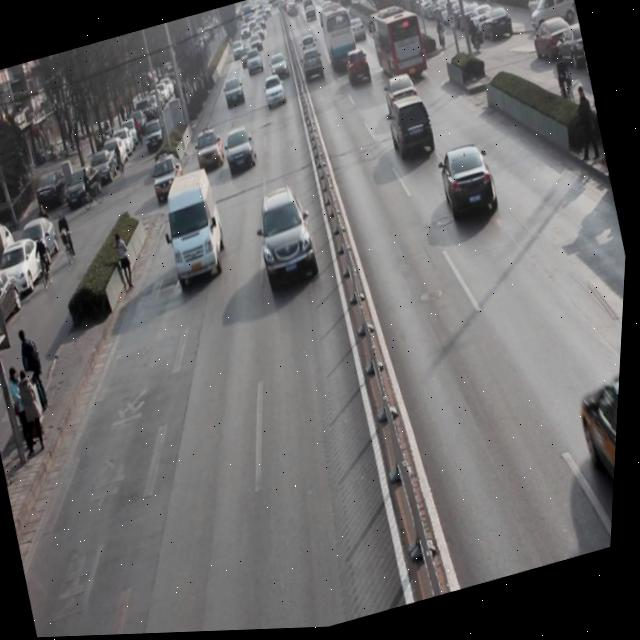car: (571, 365, 624, 553), (247, 180, 330, 296), (433, 138, 507, 229), (384, 95, 442, 166), (379, 70, 425, 125), (221, 127, 265, 181), (148, 153, 192, 204), (340, 46, 377, 91), (191, 127, 228, 171), (297, 48, 329, 86), (261, 75, 291, 112), (297, 35, 324, 66), (222, 77, 248, 108), (267, 51, 292, 81), (348, 16, 370, 47), (244, 48, 266, 77)
truck: (155, 165, 239, 291)
van: (363, 0, 431, 90), (313, 1, 363, 78)
